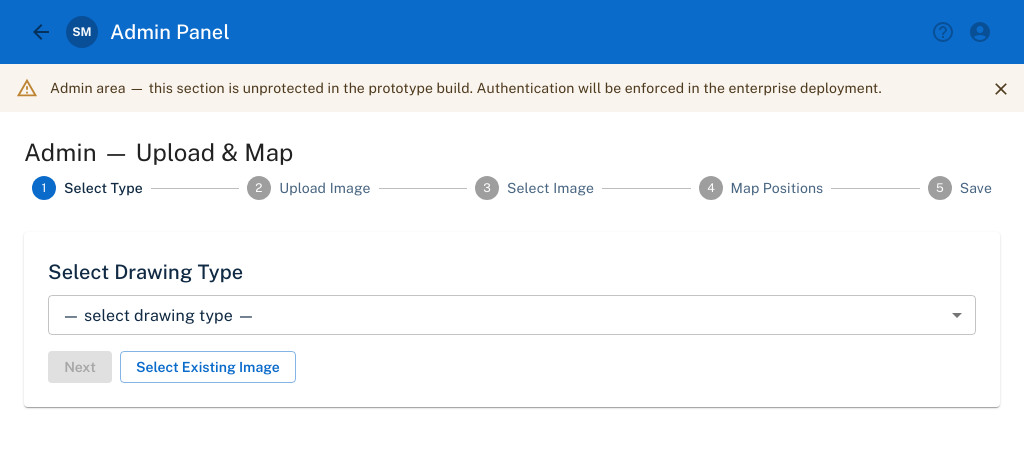
AdminUploadMappingPage › advances to Upload step after selecting a drawing type
The image size is (1024, 474).
Click the dropdown labelled "— select drawing type —".
click(158, 315)  # box [62, 306, 255, 325]
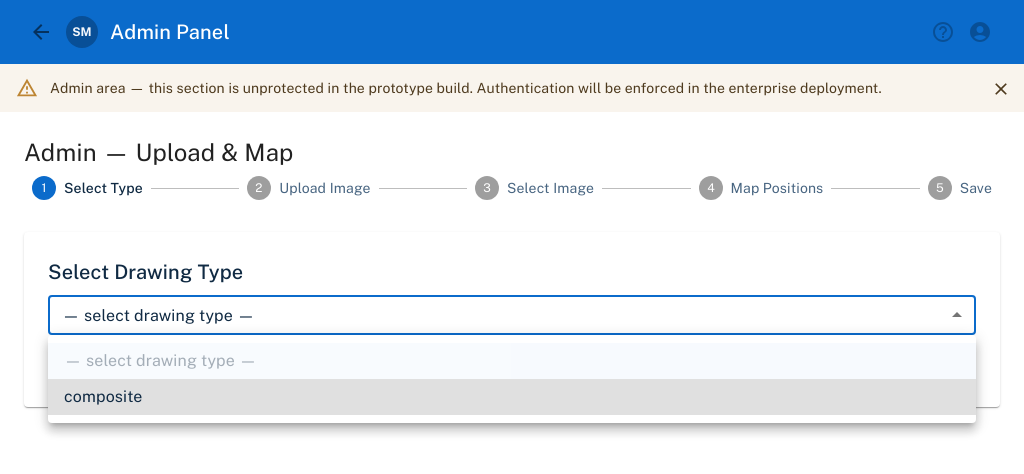
Click the option "composite".
click(103, 396)  # box [48, 379, 976, 415]
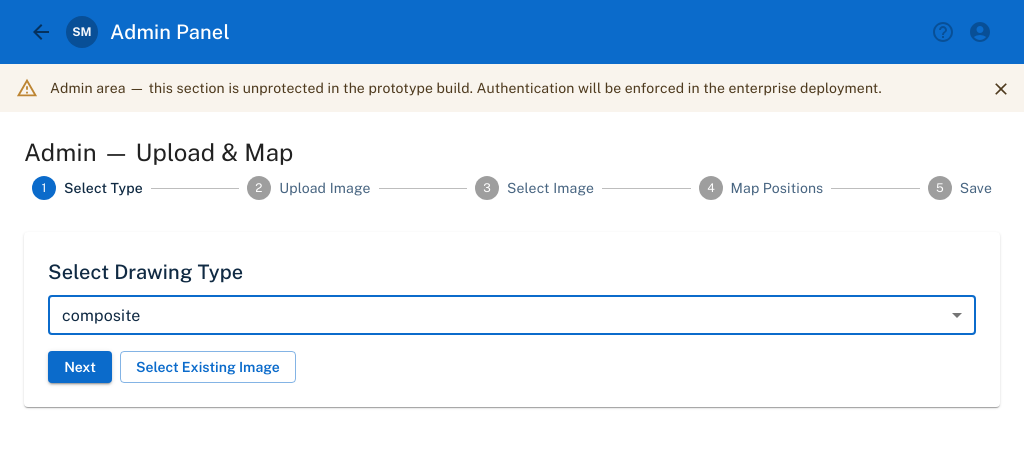
Result: the button "Next" is enabled
Click the button "Next".
click(80, 367)  # box [48, 351, 112, 383]
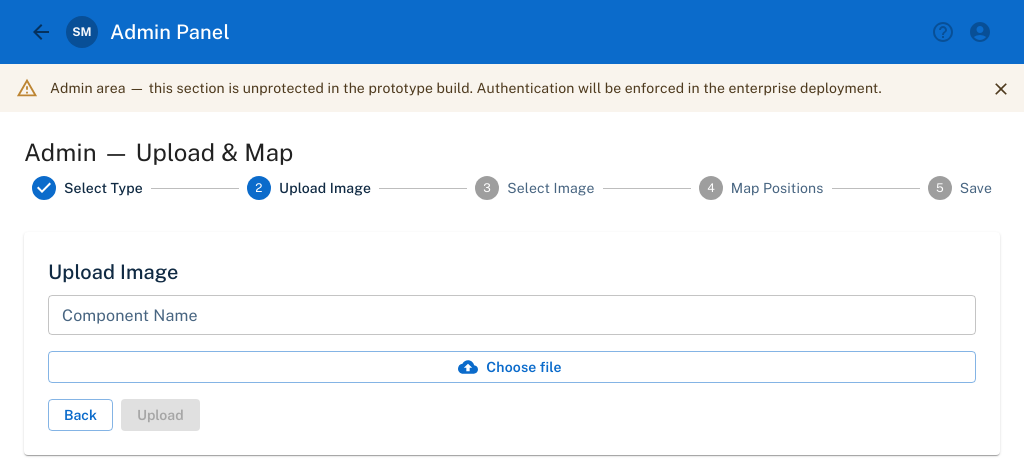
Result: the field labelled "Component Name" is shown at [48, 295, 976, 335]
